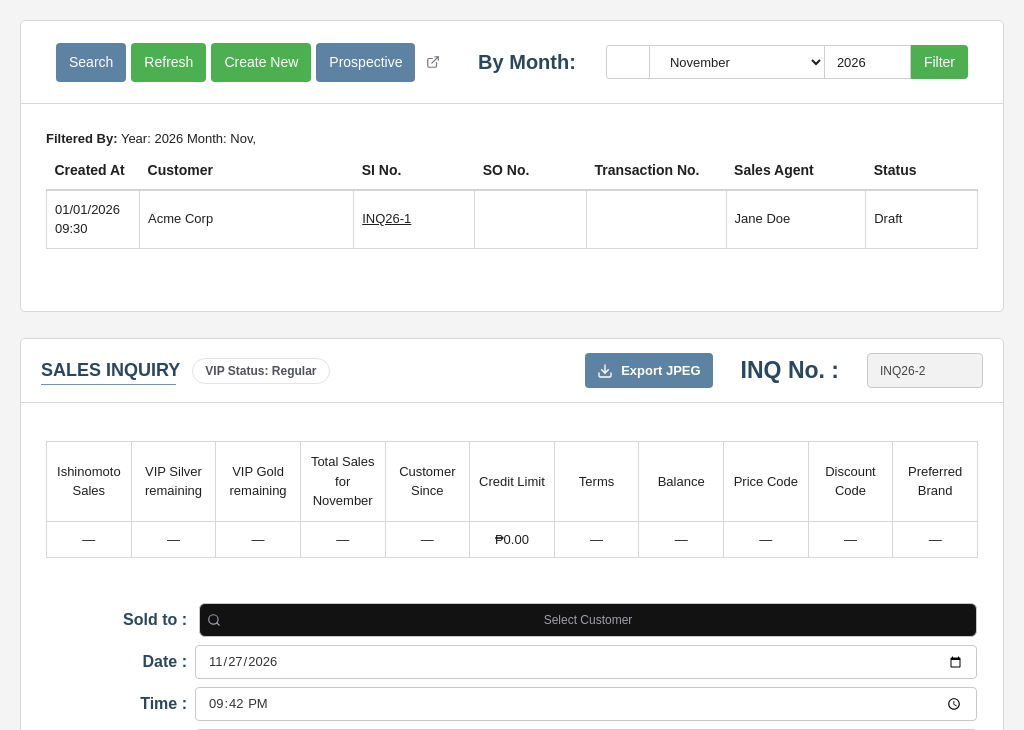
Test: SalesInquiryView › confirms only when navigating out of Sales Inquiry, not for in-module actions or tab hiding
The width and height of the screenshot is (1024, 730).
Click the link "INQ26-1" at [387, 219], box [362,211,411,226]
(page scrolled)
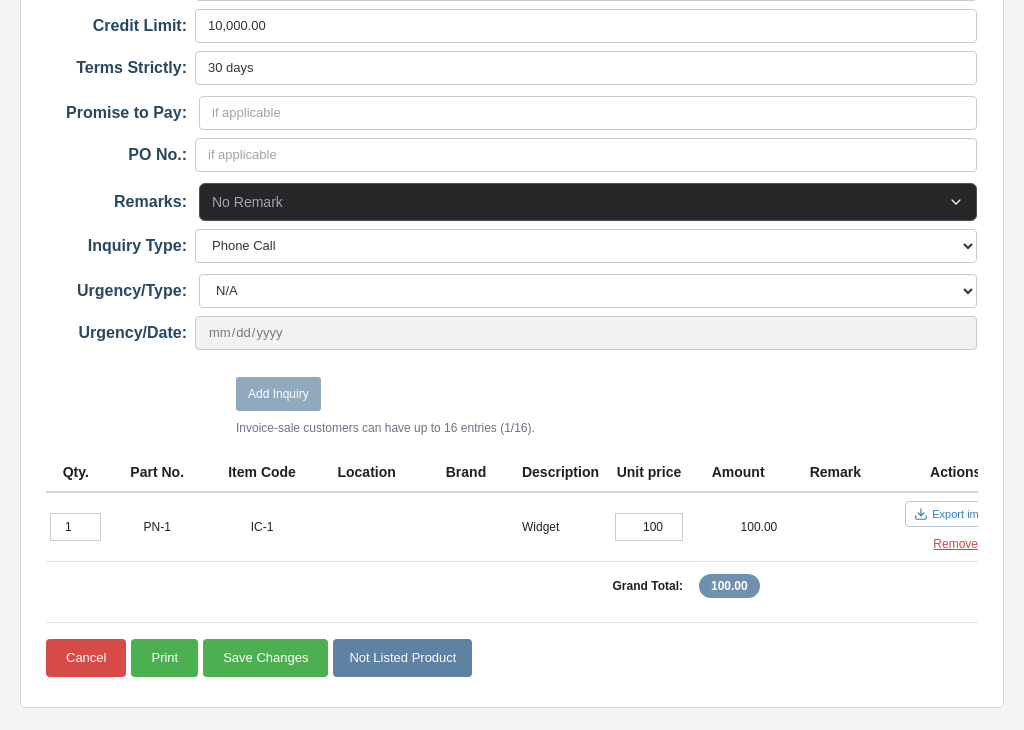
Result: the text "Widget" is shown at [514,492,607,562]
